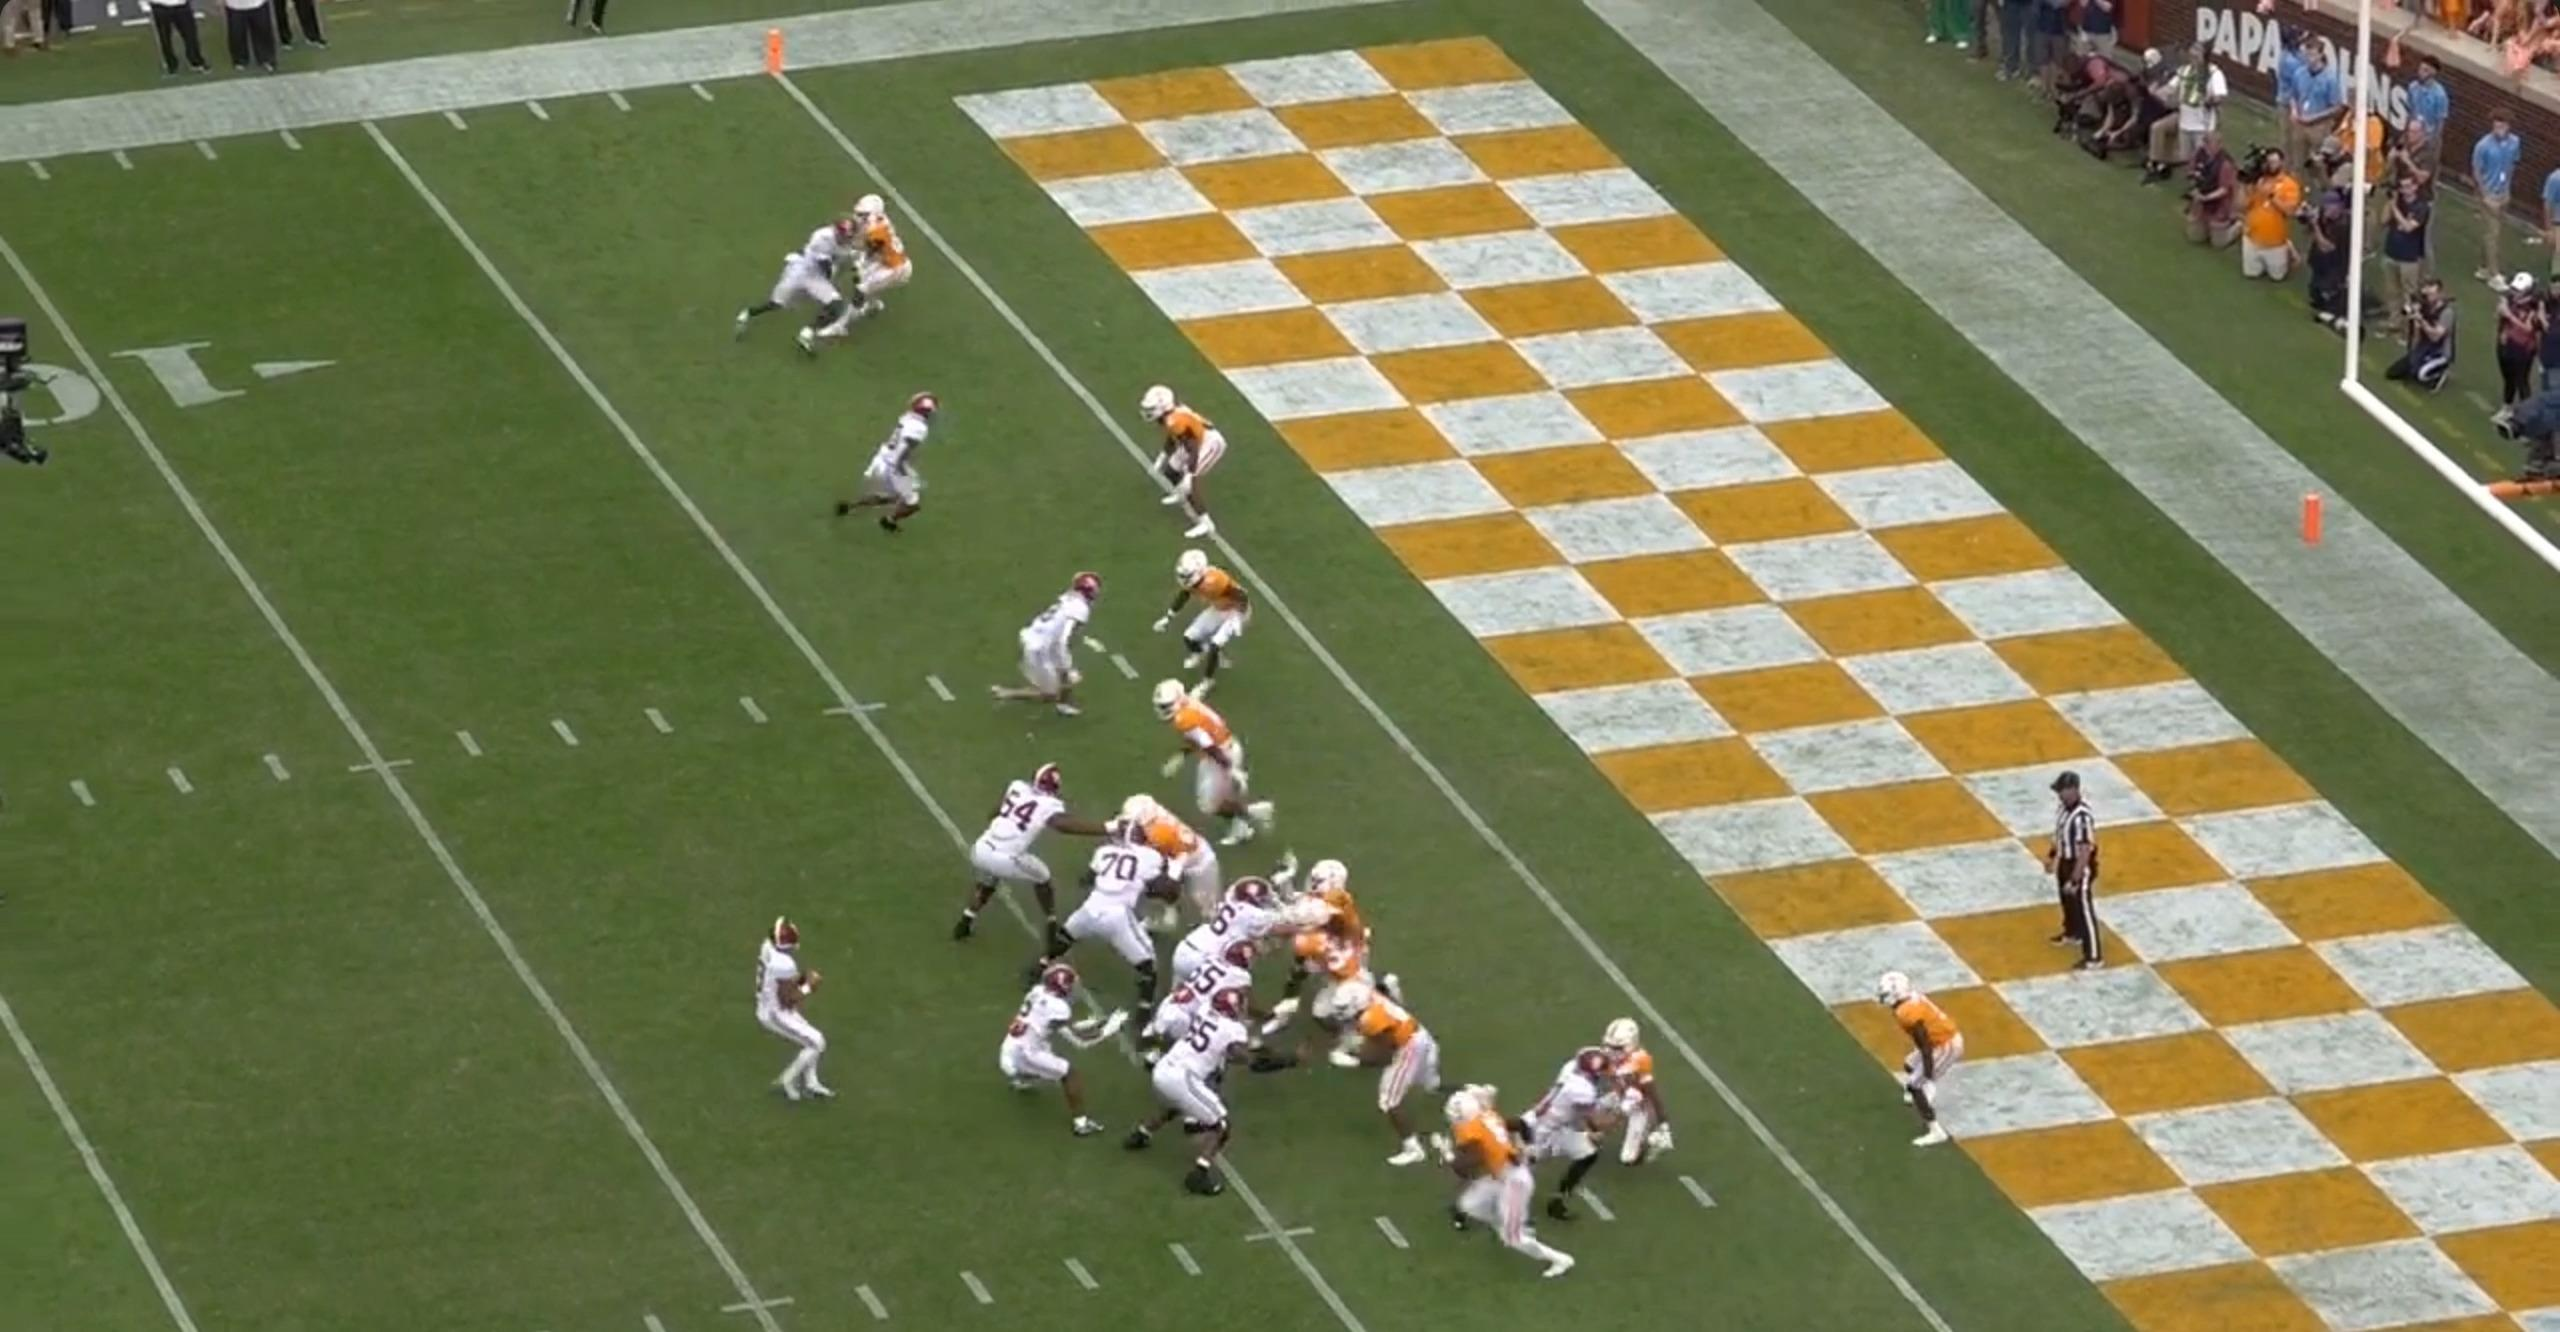player: (1030, 815, 1203, 1024), (1123, 981, 1270, 1197), (1440, 1069, 1579, 1280), (1137, 867, 1292, 1052), (942, 765, 1080, 957), (1344, 967, 1458, 1176), (1149, 674, 1281, 847), (721, 217, 861, 364), (1280, 897, 1394, 1077), (995, 965, 1108, 1138), (829, 384, 950, 543), (1872, 966, 1971, 1157), (987, 567, 1105, 724), (739, 916, 829, 1113), (1524, 1051, 1624, 1227), (1145, 936, 1268, 1070), (1141, 383, 1236, 544), (1145, 543, 1247, 691), (1118, 787, 1228, 919), (1590, 1012, 1678, 1171), (1271, 847, 1377, 967), (833, 189, 911, 342)
ref: (2047, 763, 2121, 981)
